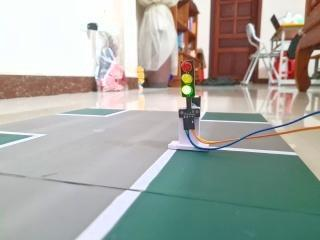green: (168, 50, 210, 104)
